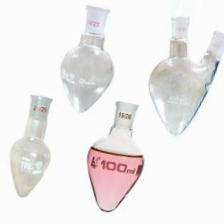Pear shaped flask: (133, 16, 215, 129), (49, 9, 113, 110), (87, 108, 148, 211), (8, 82, 51, 197)
